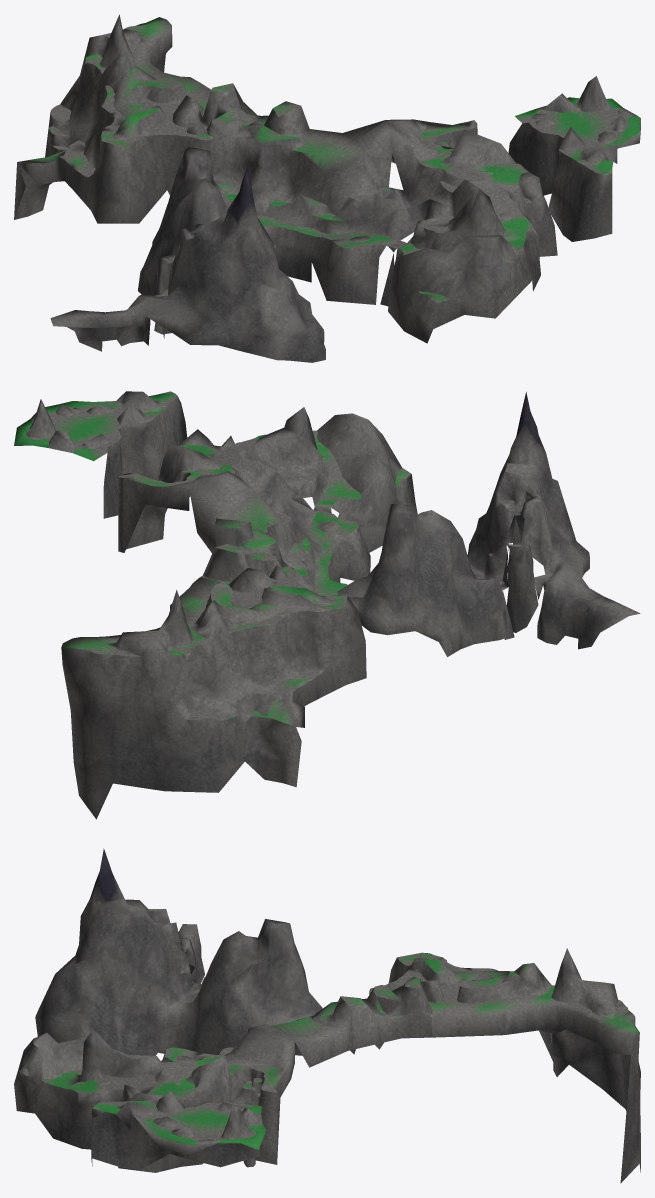
Rendered from clod_terrain_08_07_clod000.gltf.
3 renders of one model, top to bottom at view 1: azimuth 30°, elevation 25°; view 2: azimuth 150°, elevation 25°; view 3: azimuth 270°, elevation 25°, orthographic. The views are drawn at different scales.
Visible parts, largest first — view 1: um_clod_terrain_08_07_clod000_0_Shape1:aggregation_mat; view 2: um_clod_terrain_08_07_clod000_0_Shape1:aggregation_mat; view 3: um_clod_terrain_08_07_clod000_0_Shape1:aggregation_mat.
Boxes of the visible parts, bbox=[...] form: um_clod_terrain_08_07_clod000_0_Shape1:aggregation_mat: bbox=[14, 14, 640, 362]; um_clod_terrain_08_07_clod000_0_Shape1:aggregation_mat: bbox=[14, 391, 640, 819]; um_clod_terrain_08_07_clod000_0_Shape1:aggregation_mat: bbox=[14, 848, 640, 1183].
Size of the model in its own units: 597 by 253 by 562.
1 material, 1 textured.
